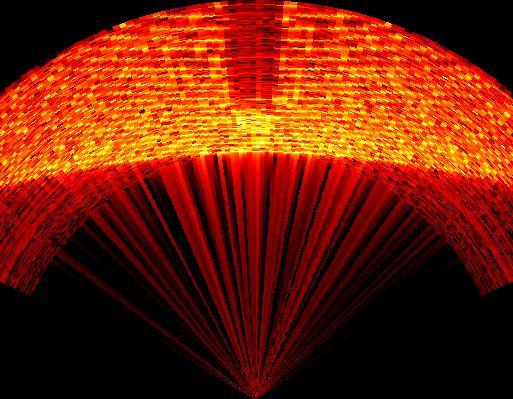box_crate: (228, 0, 286, 114)
